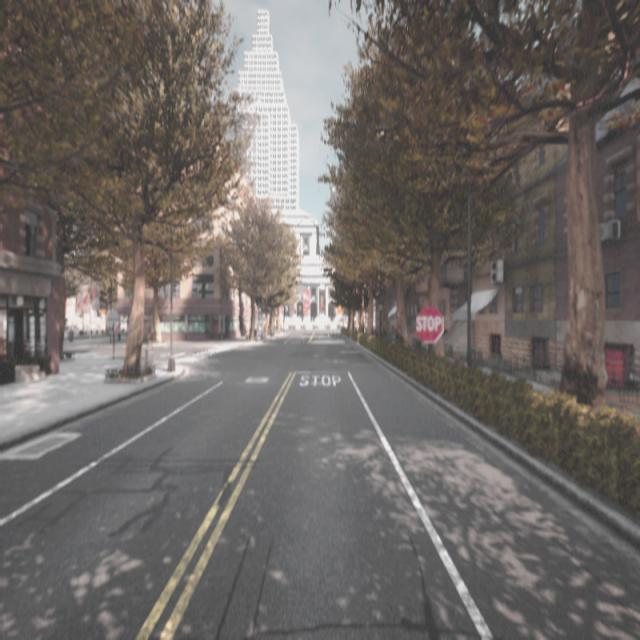stop sign: (412, 303, 446, 346)
